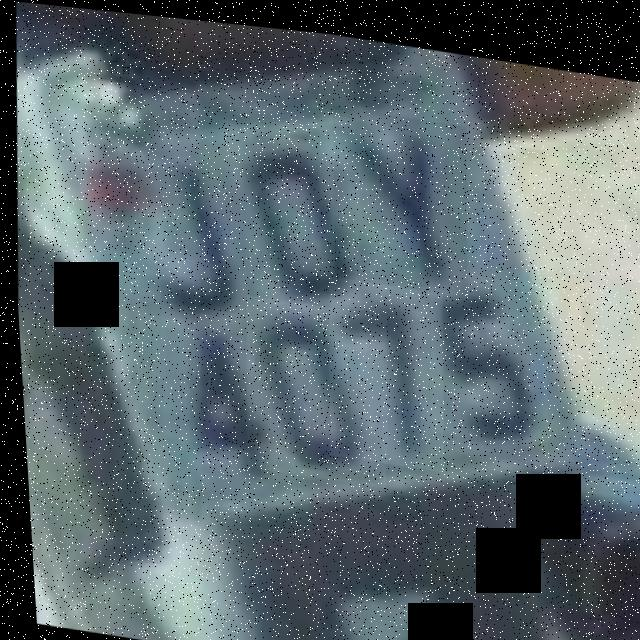0: (234, 290, 391, 482)
4: (149, 298, 300, 504)
5: (419, 258, 551, 439)
7: (317, 268, 448, 464)
J: (119, 143, 260, 327)
Y: (324, 98, 473, 285)
